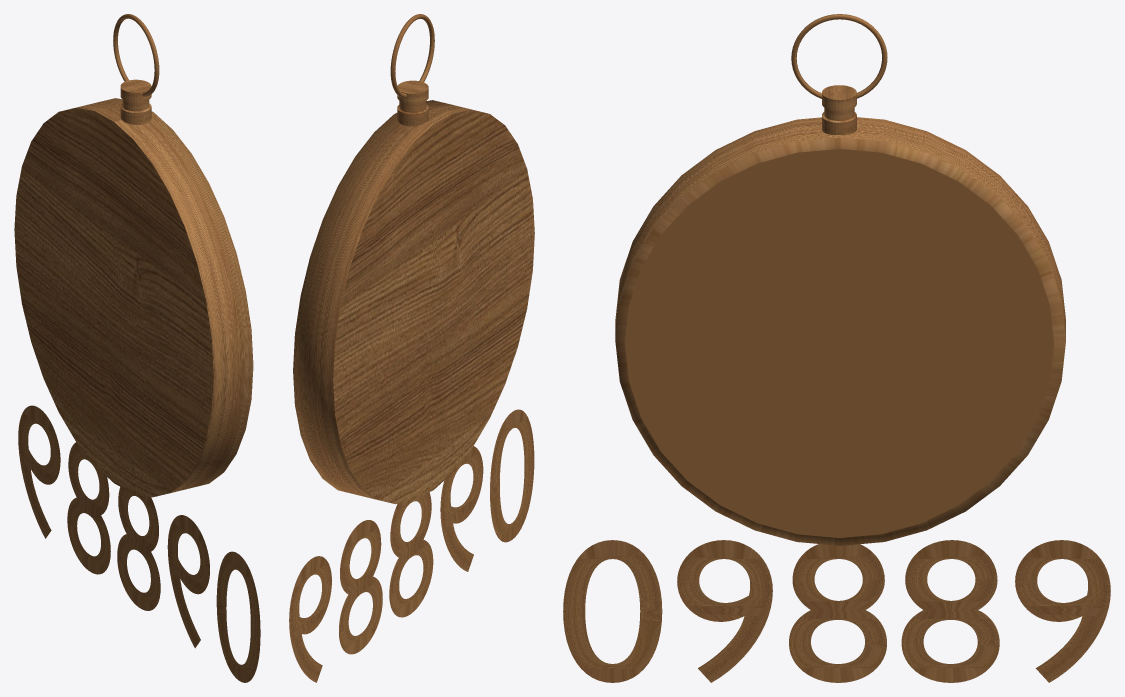
3 renders of one model, left to right at view 1: azimuth 30°, elevation 25°; view 2: azimuth 150°, elevation 25°; view 3: azimuth 270°, elevation 25°, orthographic. The views are drawn at different scales.
Visible parts, largest first — view 1: BezierCircle; view 2: BezierCircle; view 3: BezierCircle.
Boxes of the visible parts, bbox=[...] form: BezierCircle: bbox=[14, 14, 260, 682]; BezierCircle: bbox=[289, 14, 534, 682]; BezierCircle: bbox=[563, 14, 1110, 682].
Bounding box in the file's own units: 0.2319 × 3.27 × 2.43.
Materials: 4 (2 with a texture image).
